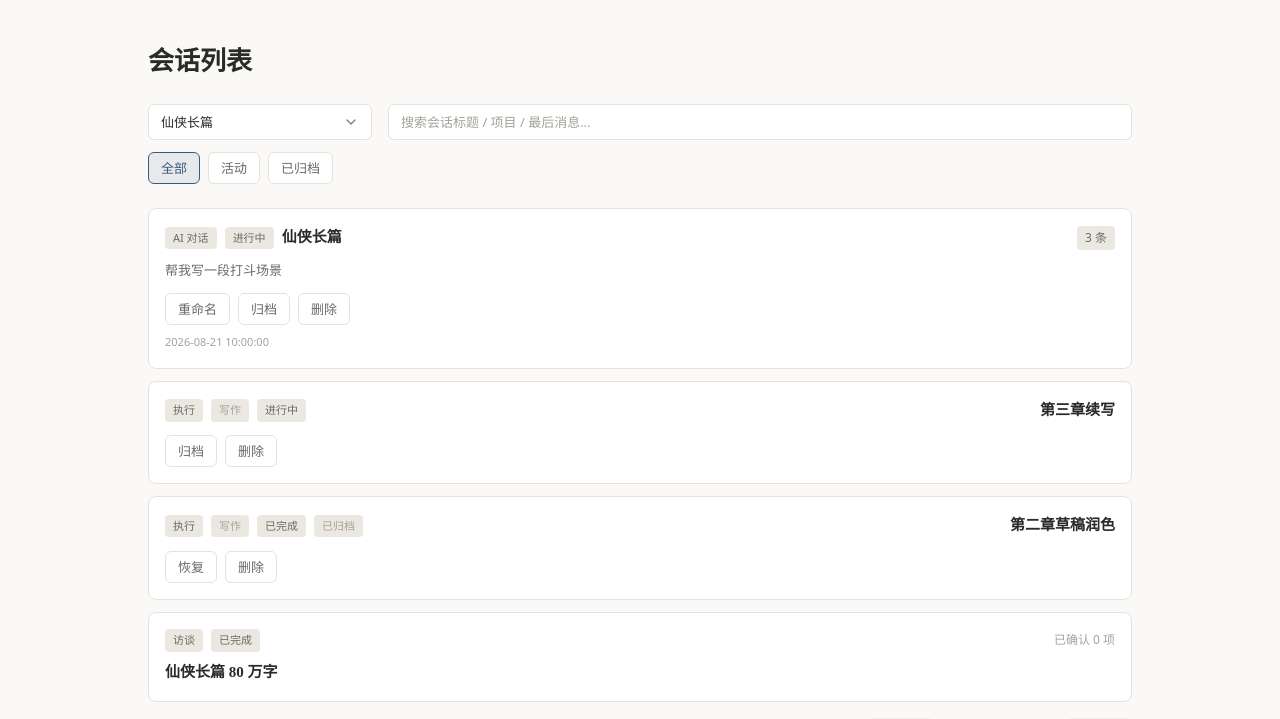
Test case: 会话页 — 归档 / 恢复 / 删除（执行会话） › 恢复：归档行点 session-restore-ex-archived-p1 → restoreSession(id) → 徽标消失、归档按钮出现
Expected: the button with test id "session-title-ex-archived-p1" is shown, top-left (1010, 513), bottom-right (1115, 539)
Click the button with test id "session-restore-ex-archived-p1": [191, 567] box top-left (165, 551), bottom-right (217, 583)
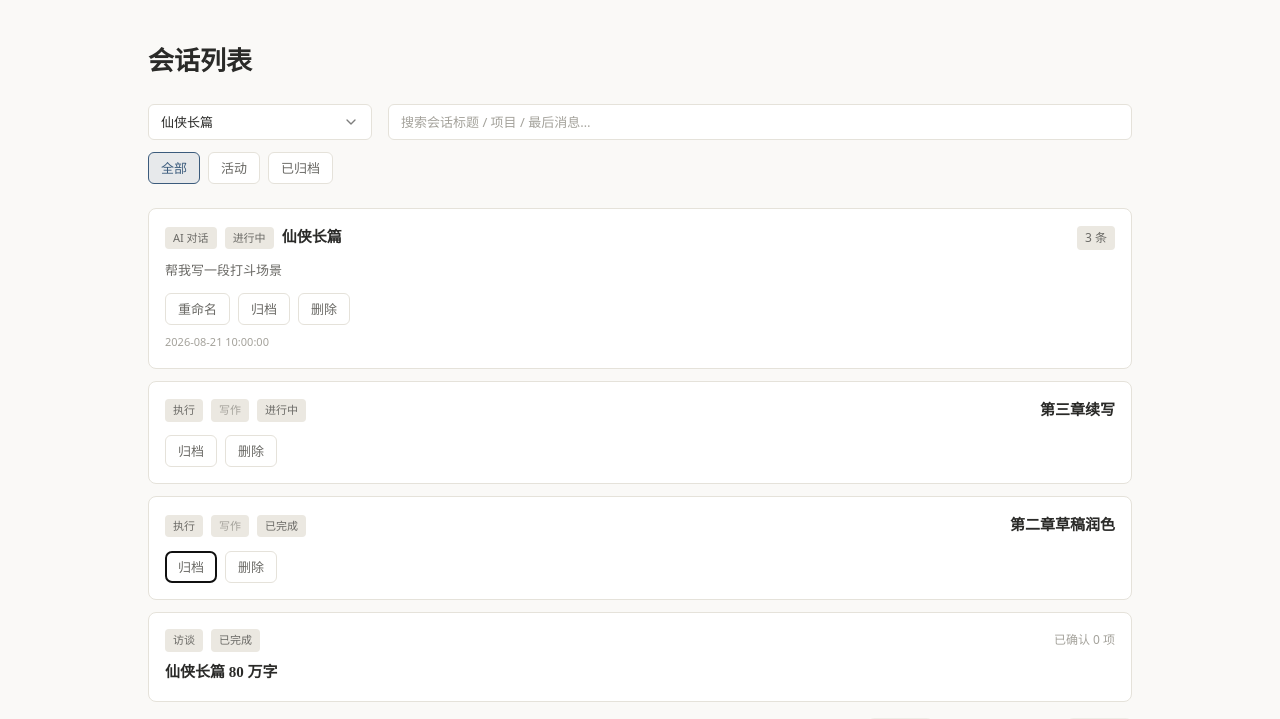
Expected: the text with test id "session-archived-ex-archived-p1" is gone
Expected: the button with test id "session-archive-ex-archived-p1" is shown, top-left (165, 551), bottom-right (217, 583)
